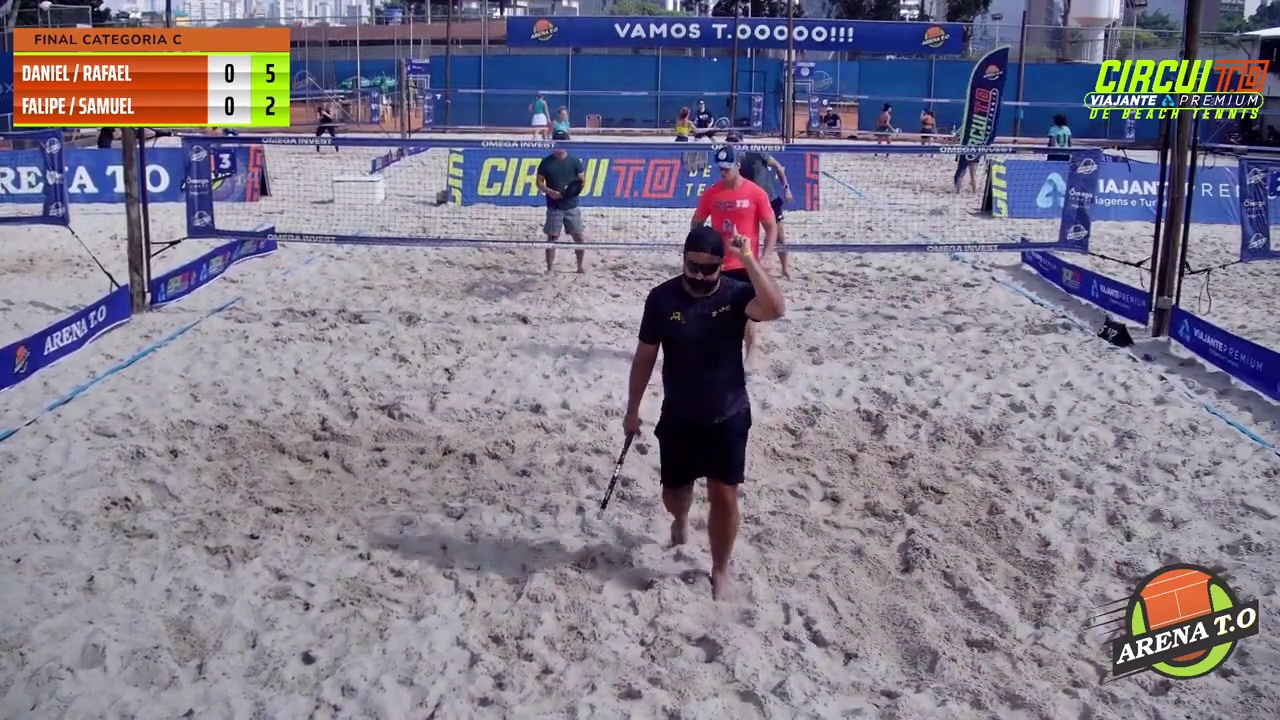court_line: (619, 0, 808, 538)
